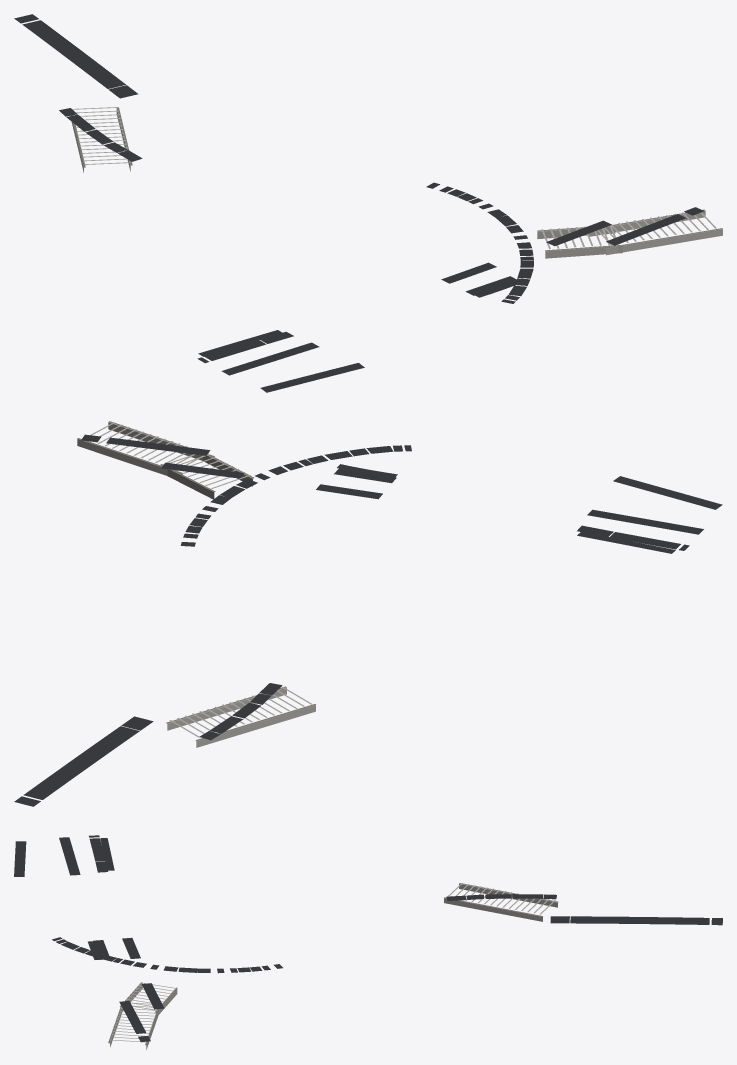
Rendered from br_h27_calgary_trail_1_lod3.gltf.
The picture shows the model from 3 angles, top to bottom: view 1: azimuth 30°, elevation 25°; view 2: azimuth 150°, elevation 25°; view 3: azimuth 270°, elevation 25°; orthographic projection. The views are drawn at different scales.
Parts seen in each view (by area): view 1: br_h27_calgary_trail_1_lod3; view 2: br_h27_calgary_trail_1_lod3; view 3: br_h27_calgary_trail_1_lod3.
Boxes of the visible parts, x1=… form: br_h27_calgary_trail_1_lod3: x1=14, y1=14, x2=722, y2=392; br_h27_calgary_trail_1_lod3: x1=14, y1=421, x2=722, y2=806; br_h27_calgary_trail_1_lod3: x1=14, y1=835, x2=722, y2=1049.
Size of the model in its own units: 577 by 19.49 by 835.
